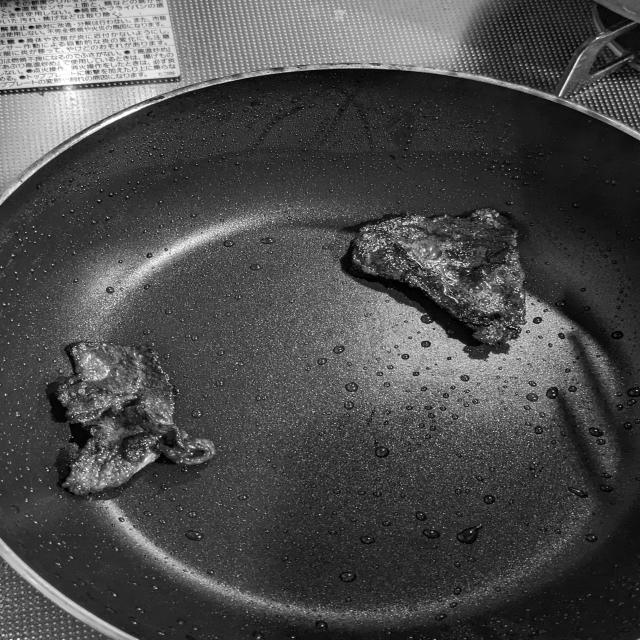overcooked beef,: (35, 331, 227, 500), (345, 200, 534, 354)
